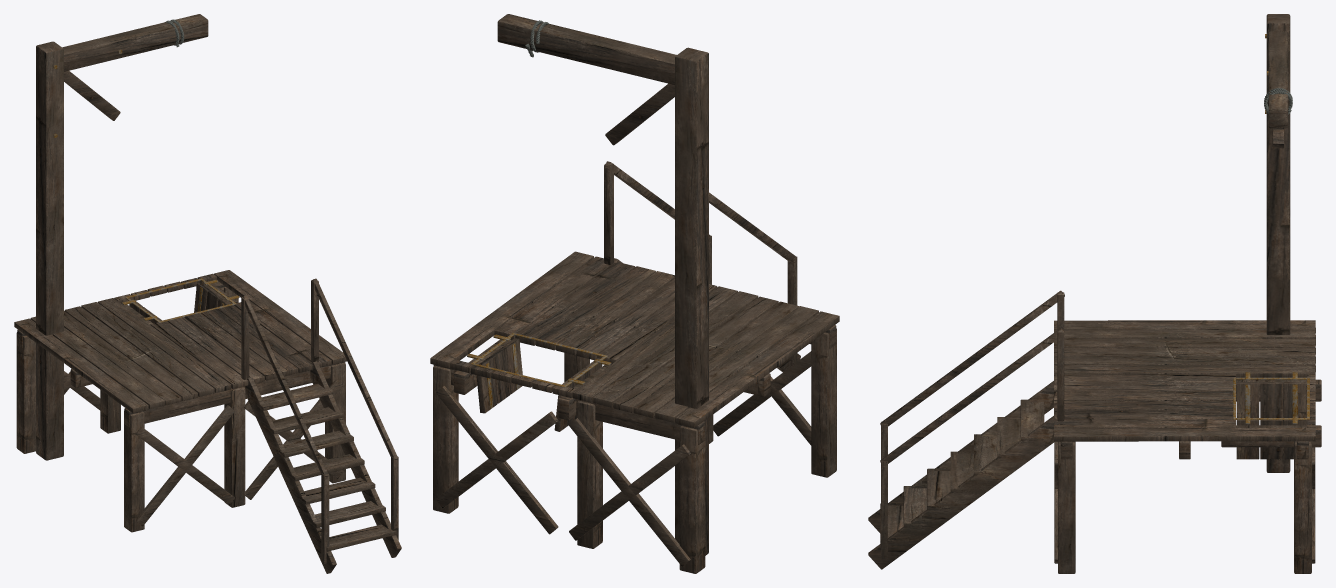
Rendered from gallows.glb.
The picture shows the model from 3 angles, left to right: view 1: azimuth 30°, elevation 25°; view 2: azimuth 150°, elevation 25°; view 3: azimuth 270°, elevation 25°; orthographic projection. The views are drawn at different scales.
Visible parts, largest first — view 1: gallows_v, gallows_h, gallows_iron; view 2: gallows_v, gallows_h, gallows_iron; view 3: gallows_v, gallows_h, gallows_iron.
Boxes of the visible parts, box(x1,y1,x2,y2) form: gallows_v: box(14, 41, 398, 563); gallows_h: box(17, 14, 401, 573); gallows_iron: box(53, 49, 239, 322); gallows_v: box(430, 47, 839, 573); gallows_h: box(433, 14, 836, 566); gallows_iron: box(467, 332, 611, 387); gallows_v: box(881, 14, 1315, 573); gallows_h: box(868, 31, 1321, 569); gallows_iron: box(1233, 34, 1309, 424).
Size of the model in its own units: 2.8 by 5.18 by 4.61.
Materials: 4 (4 with a texture image).
